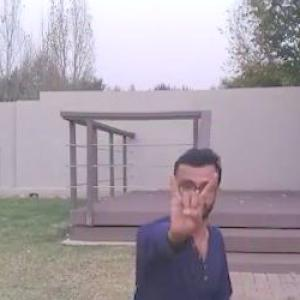takeoff-hand: (161, 164, 233, 251)
